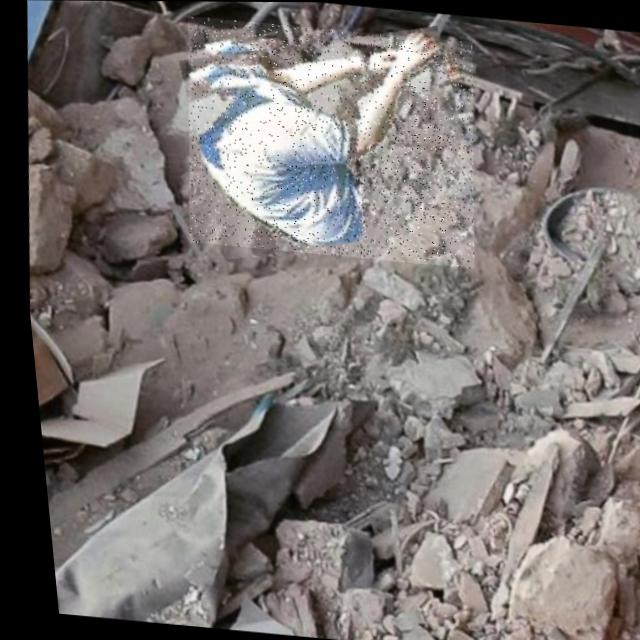Person in Rubble: (167, 14, 489, 267)
